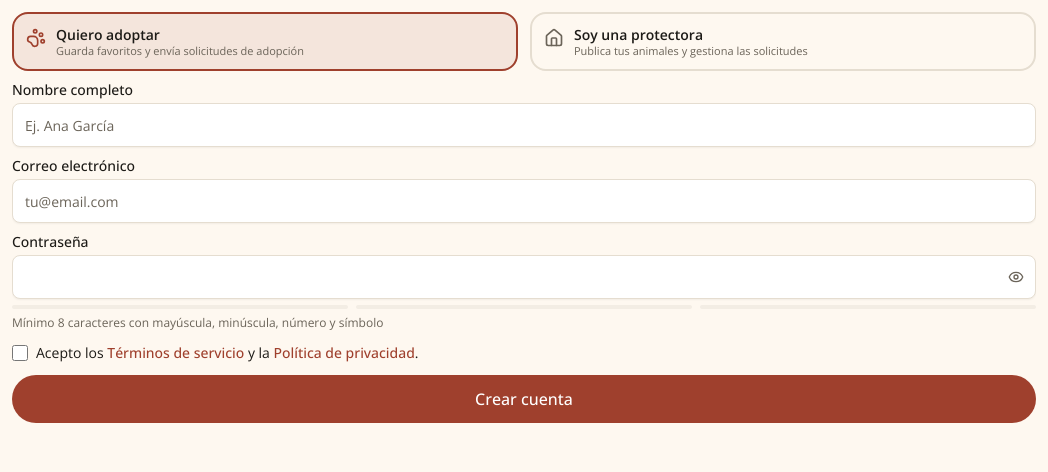
Scenario: RegisterForm › muestra error genérico si el registro falla (sin revelar si el email existe)
Type "Ana García" into the field labelled "Nombre completo" at [524, 125], box [12,103,1036,147]
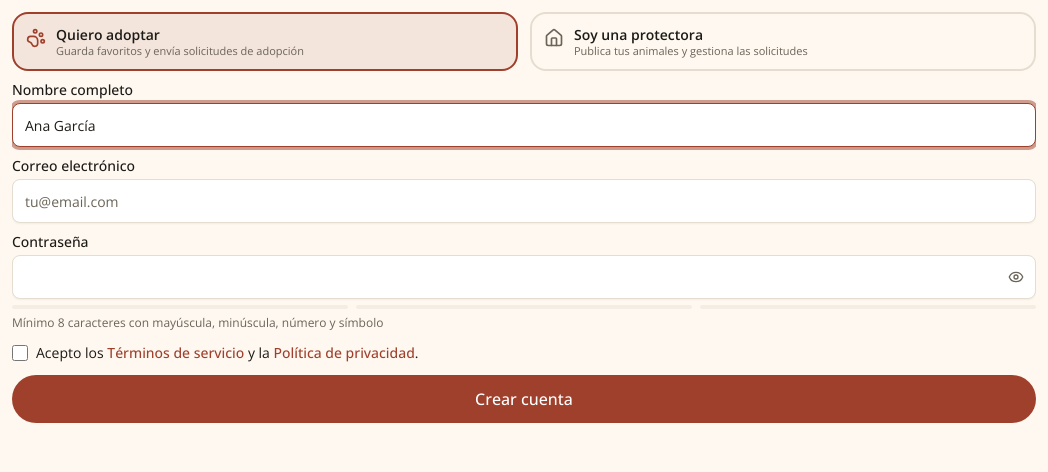
Type "ana@example.com" into the field labelled "Correo electrónico" at [524, 201], box [12,179,1036,223]
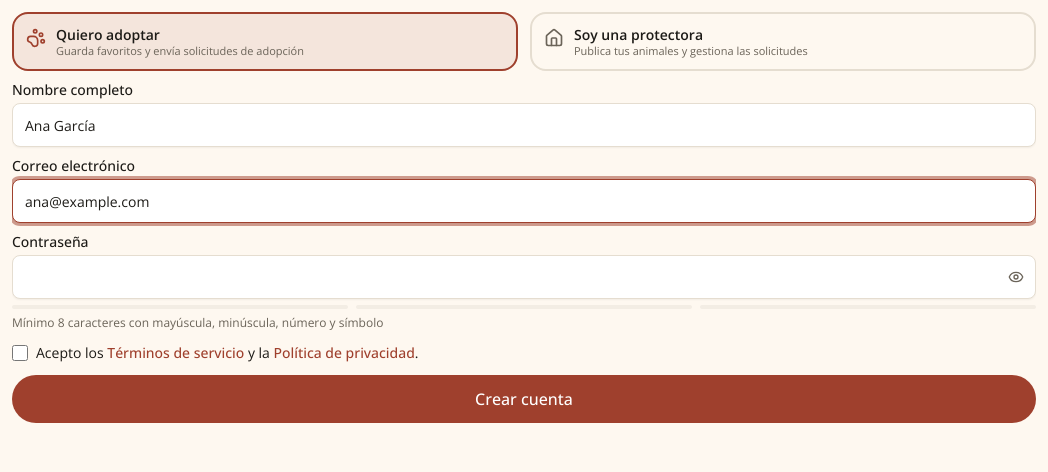
Type "Secreta-123!" into the password field labelled "Contraseña" at [524, 277], box [12,255,1036,299]
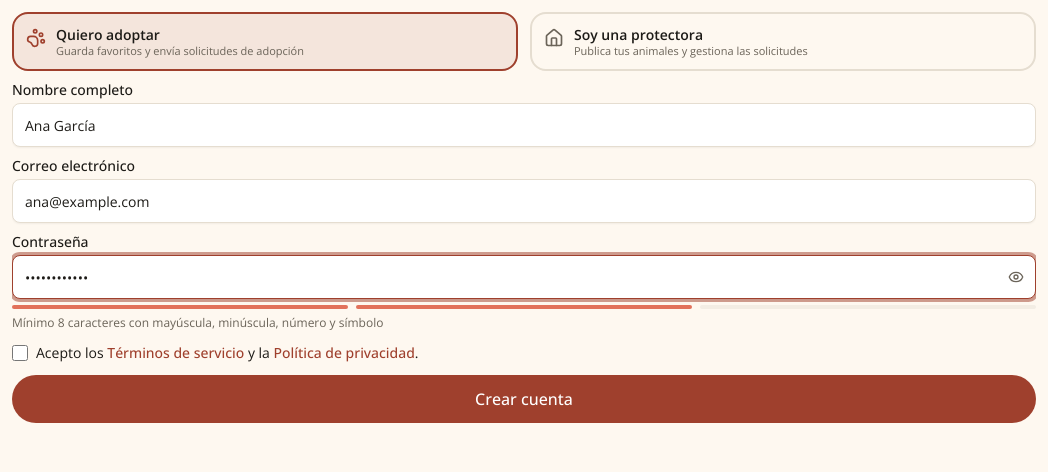
Click the checkbox at [20, 353], box [12,345,28,361]
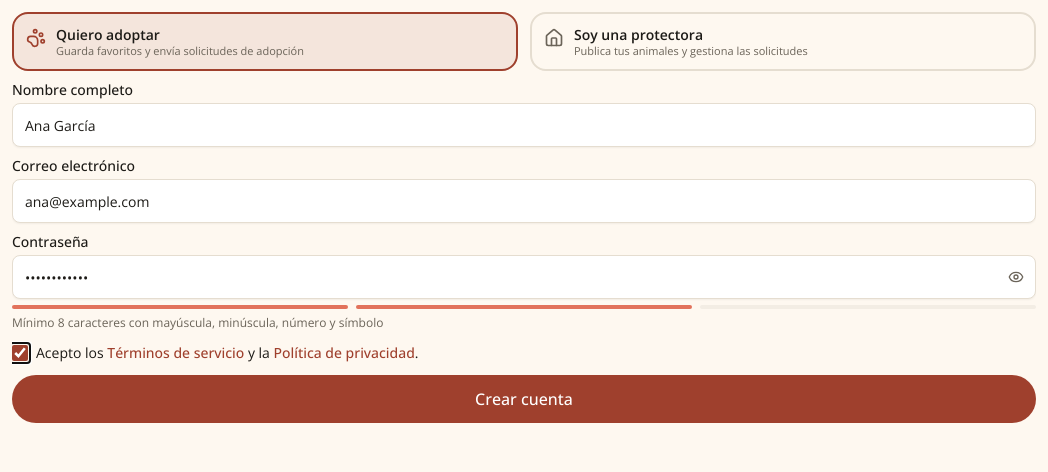
Click the button "Crear cuenta" at [524, 399], box [12,375,1036,423]
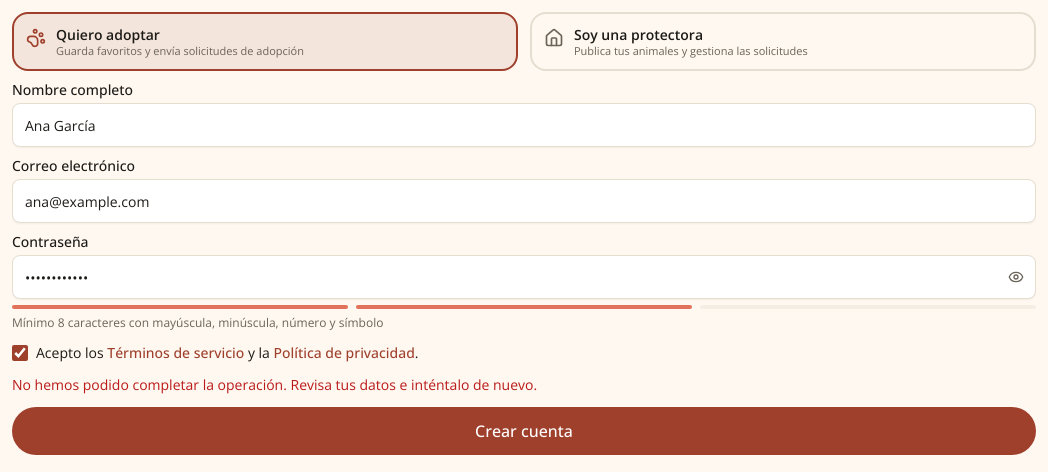
Expected: the message reads "No hemos podido completar la operación. Revisa tus datos e inténtalo de nuevo.", [12,375,537,394]
